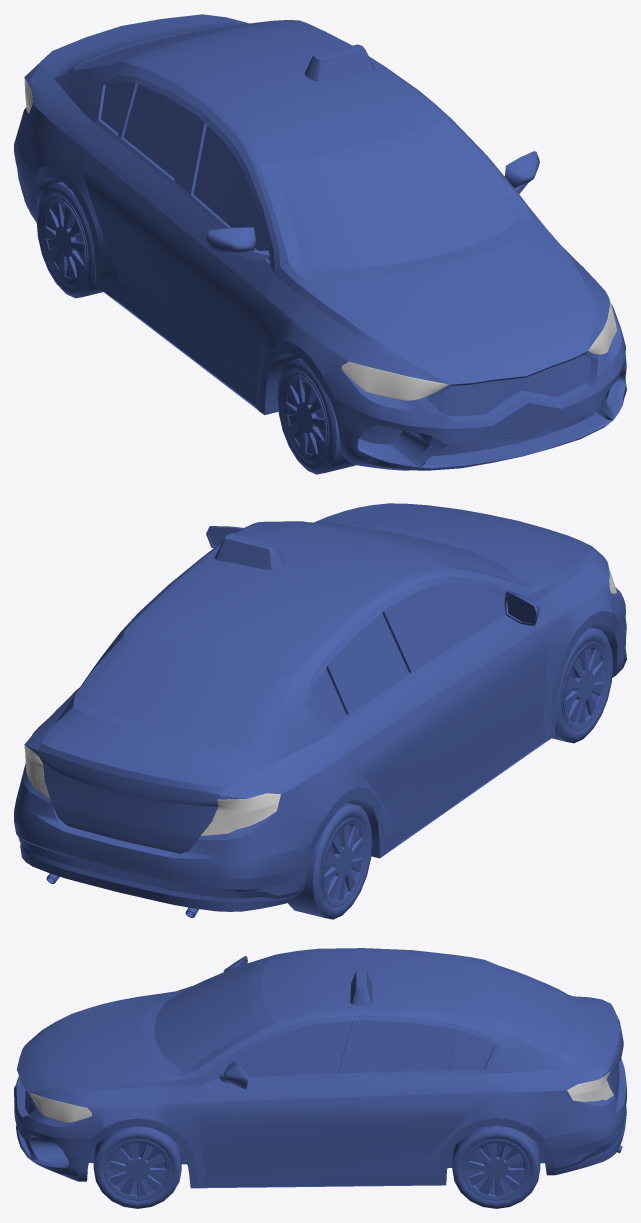
File: Taxi2Hukuk.fbx
3 renders of one model, top to bottom at view 1: azimuth 30°, elevation 25°; view 2: azimuth 150°, elevation 25°; view 3: azimuth 270°, elevation 25°, orthographic. The views are drawn at different scales.
Parts seen in each view (by area): view 1: pCube2, pCylinder2, pCylinder1; view 2: pCube2, pCylinder1, pCylinder2; view 3: pCube2, pCylinder4, pCylinder3.
Boxes of the visible parts, x1,y1,x2,y2 form: pCube2: [14, 14, 626, 470]; pCylinder2: [277, 358, 355, 474]; pCylinder1: [36, 181, 102, 298]; pCube2: [14, 503, 626, 917]; pCylinder1: [288, 802, 372, 919]; pCylinder2: [552, 627, 613, 743]; pCube2: [14, 948, 626, 1188]; pCylinder4: [452, 1125, 540, 1208]; pCylinder3: [93, 1126, 181, 1208].
Bounding box in the file's own units: 20.07 × 15.25 × 43.07.
